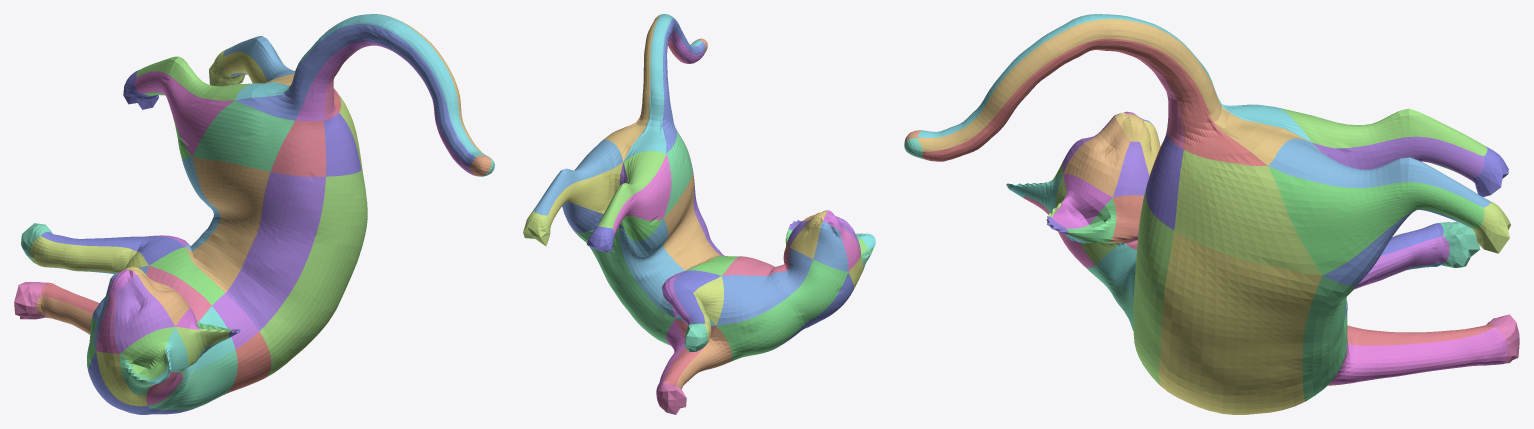
Rendered from 13_cat_output_symmetric.obj.
3 renders of one model, left to right at view 1: azimuth 30°, elevation 25°; view 2: azimuth 150°, elevation 25°; view 3: azimuth 270°, elevation 25°, orthographic. The views are drawn at different scales.
Size of the model in its own units: 80.9 by 95.04 by 116.
